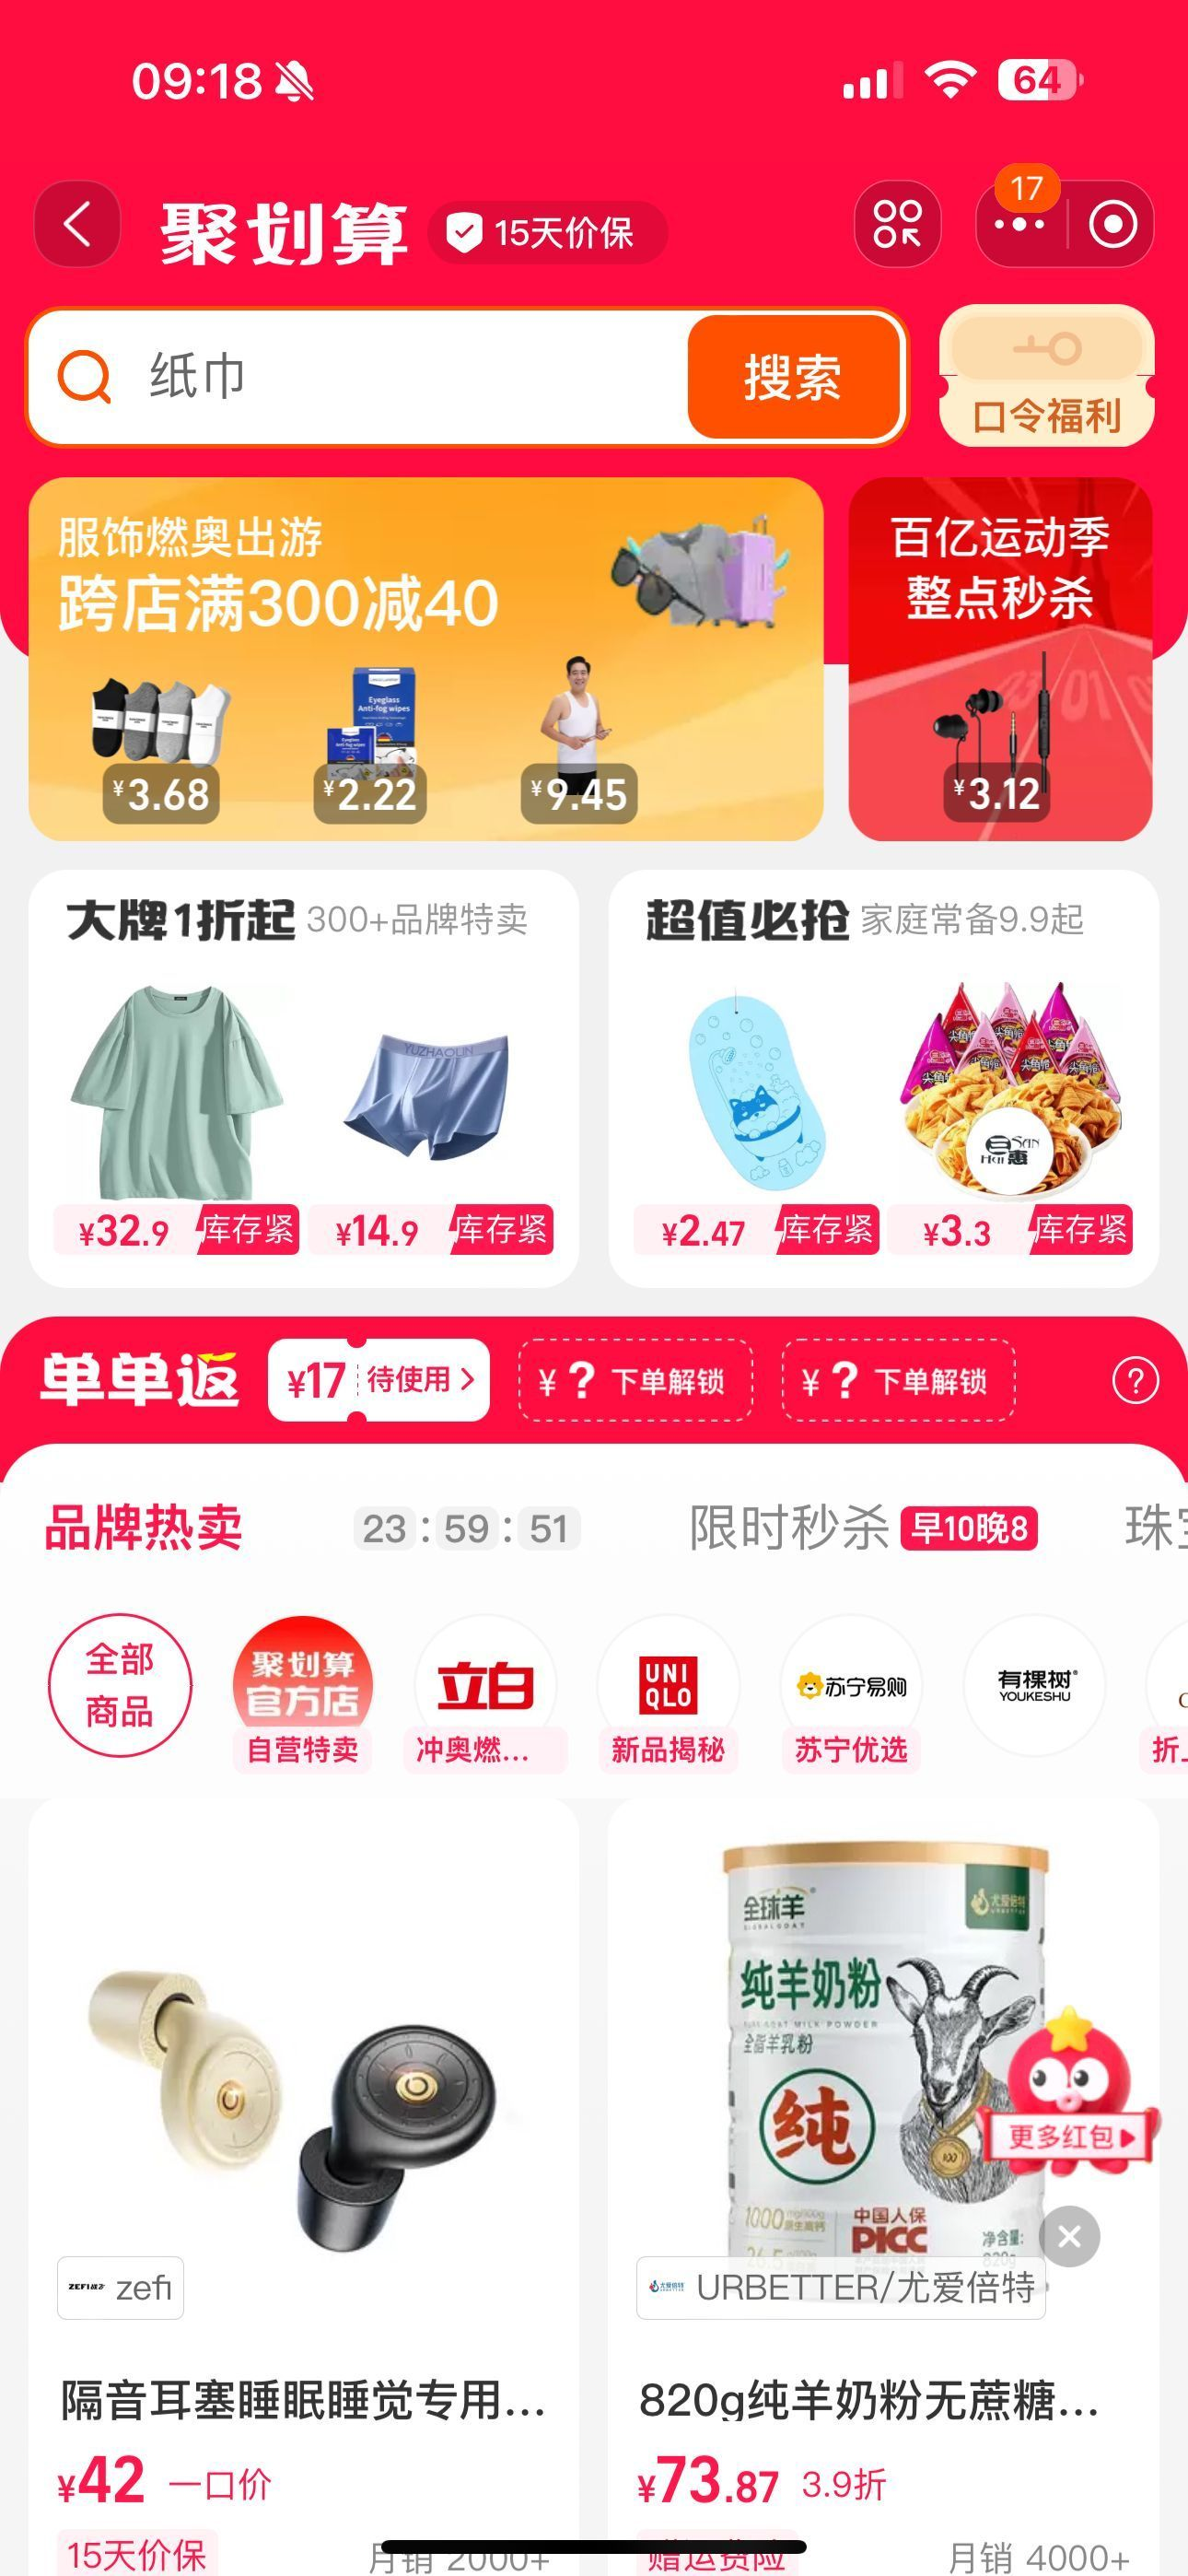item: (595, 1784, 1178, 2576), (26, 1786, 590, 2576)
op_bar: (3, 158, 1185, 291)
seckill: (10, 467, 1175, 1303)
